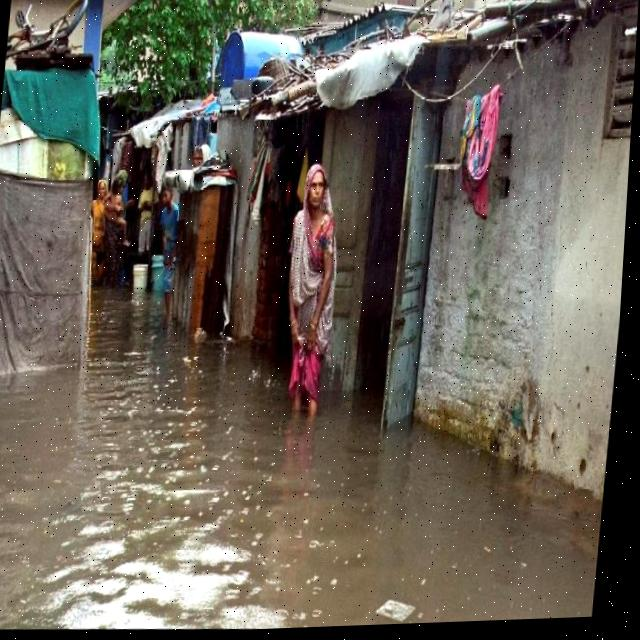civilian: (238, 144, 379, 459)
